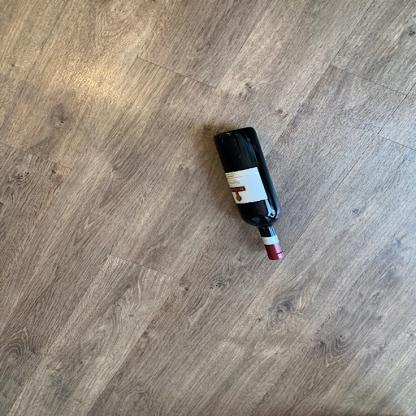trash: (209, 125, 286, 261)
